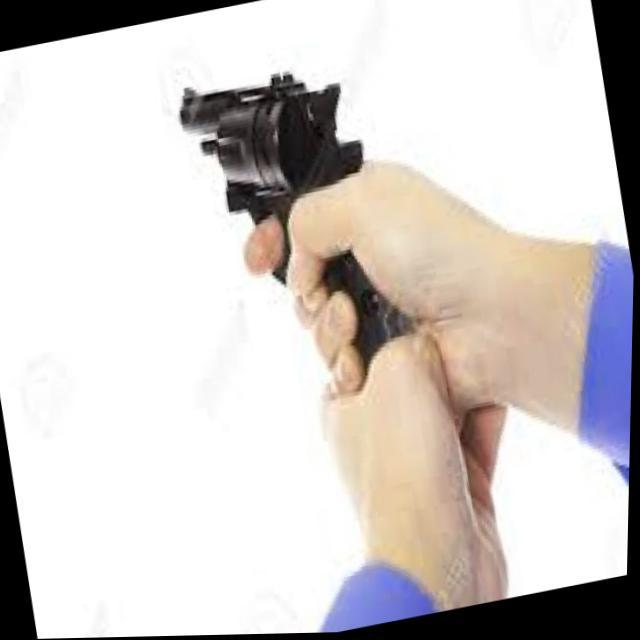weapon: (168, 44, 430, 405)
